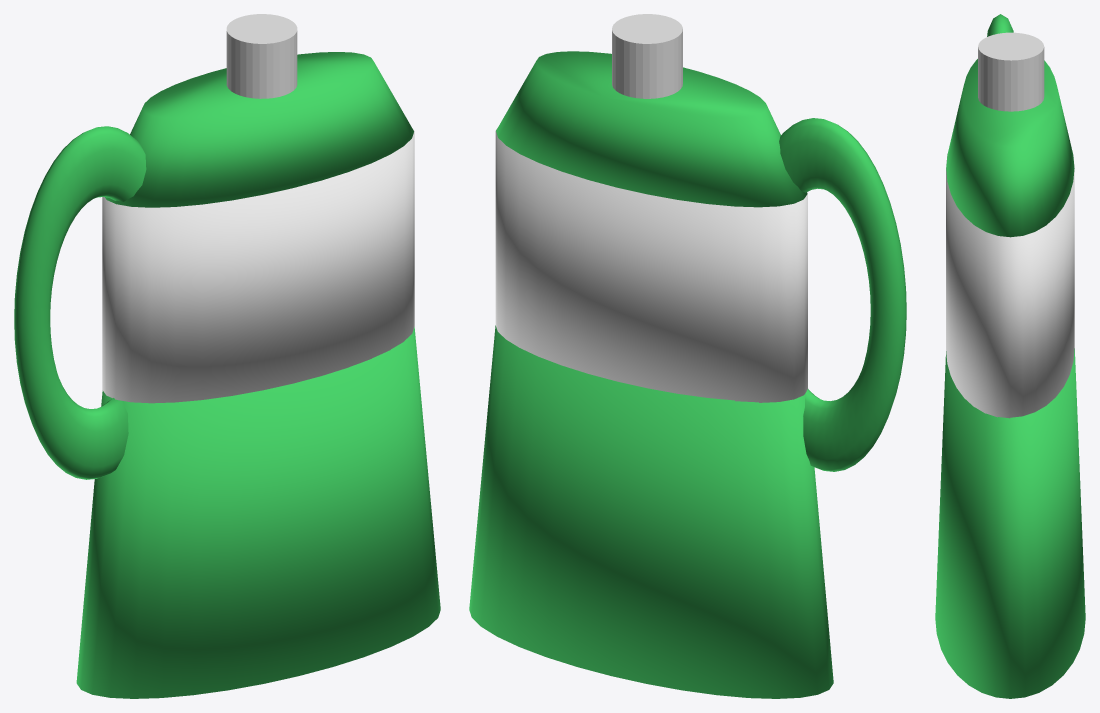
The model's file is cleaning bottle 2.fbx.
3 renders of one model, left to right at view 1: azimuth 30°, elevation 25°; view 2: azimuth 150°, elevation 25°; view 3: azimuth 270°, elevation 25°, orthographic. The views are drawn at different scales.
Visible parts, largest first — view 1: Cylinder.003; view 2: Cylinder.003; view 3: Cylinder.003.
Part boxes in pixels (x1,y1,x2,y2): Cylinder.003: (14, 14, 440, 698); Cylinder.003: (469, 14, 906, 698); Cylinder.003: (935, 14, 1085, 698).
Bounding box in the file's own units: 140 × 194 × 46.13.
